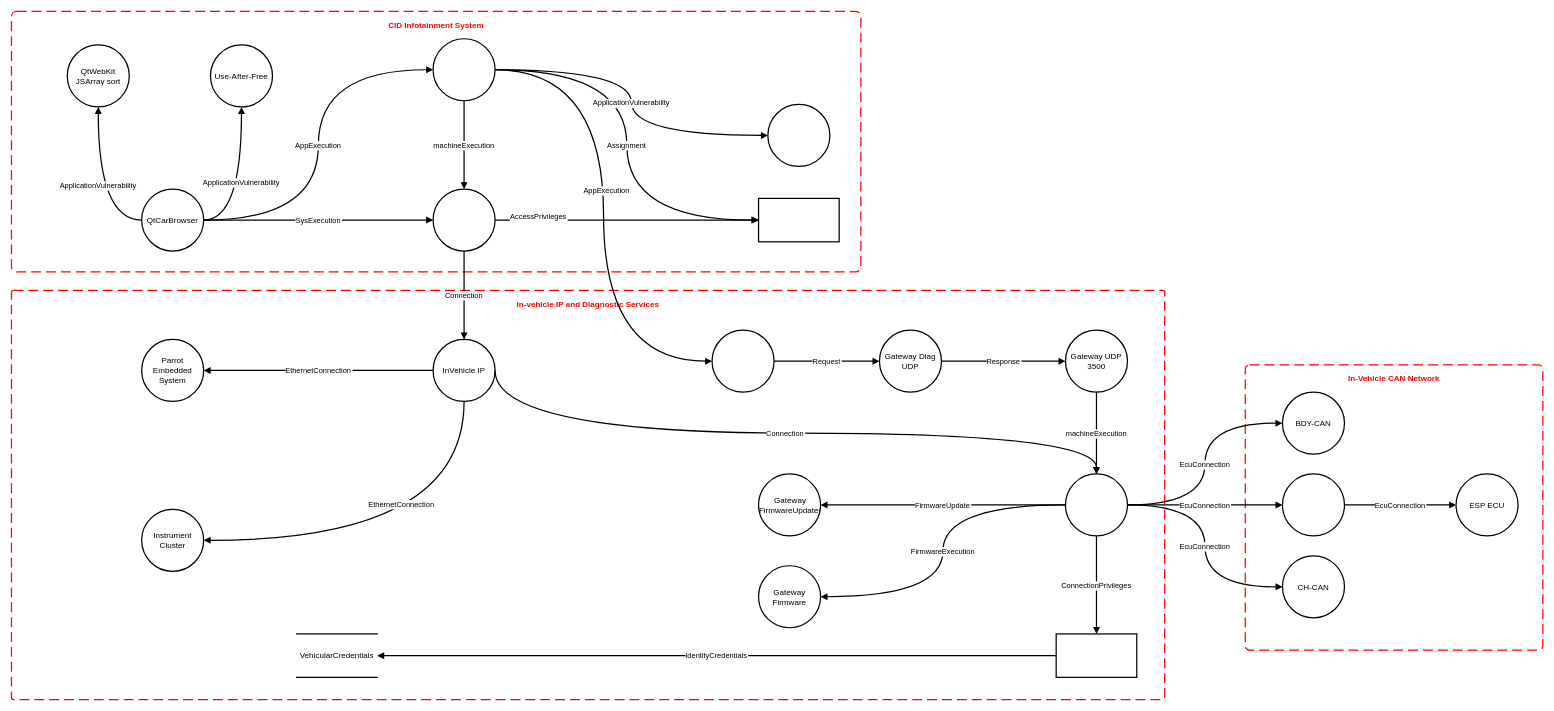
Image size: 1554x711. Some labels were removed from this diagram. Each missing label, with the centre of its shape:
Center Information Display: the point at 463,219
CID Diagnostic Client: the point at 742,360
CID Root: the point at 798,219
Gateway Diag Identity: the point at 1096,655
Gateway ECU: the point at 1096,504
Linux 2.6.36: the point at 463,69
Local Privilage Escalation: the point at 798,135
PT-CAN: the point at 1313,504
